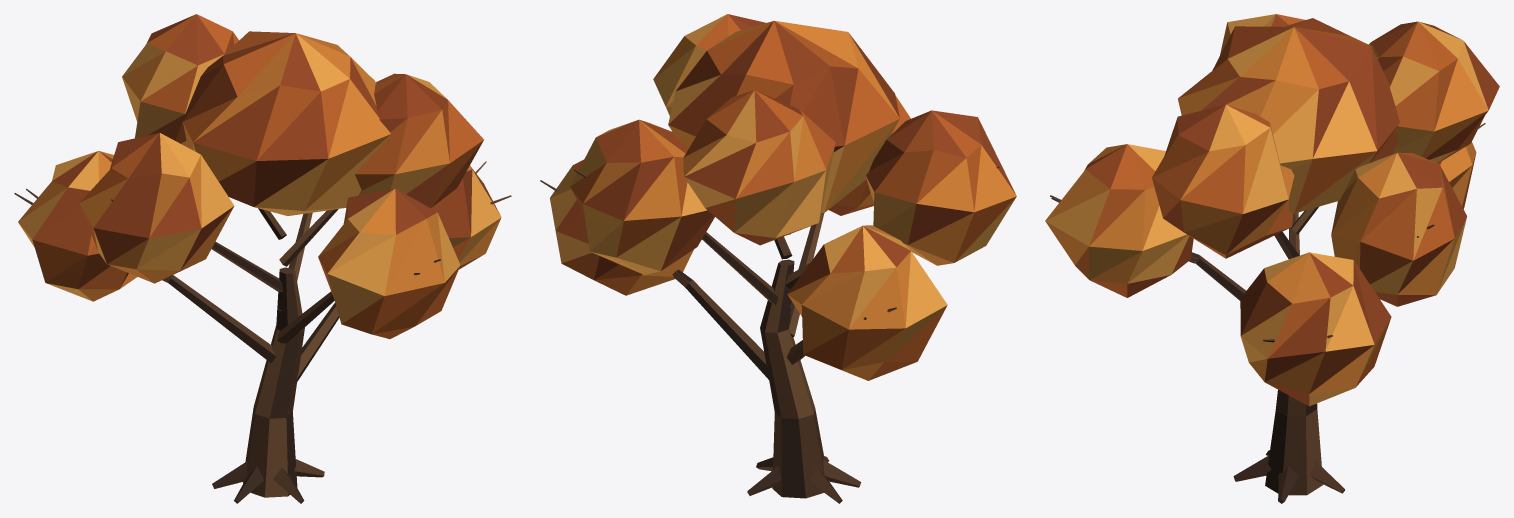
The model's file is tree_maple_orange.obj.
The picture shows the model from 3 angles, left to right: view 1: azimuth 30°, elevation 25°; view 2: azimuth 150°, elevation 25°; view 3: azimuth 270°, elevation 25°; orthographic projection. The views are drawn at different scales.
Parts seen in each view (by area): view 1: tree_maple_orange; view 2: tree_maple_orange; view 3: tree_maple_orange.
Boxes of the visible parts, bbox=[...] form: tree_maple_orange: bbox=[14, 14, 511, 503]; tree_maple_orange: bbox=[540, 14, 1016, 503]; tree_maple_orange: bbox=[1045, 14, 1499, 503].
Size of the model in its own units: 509 by 510 by 446.
1 material, 1 textured.
